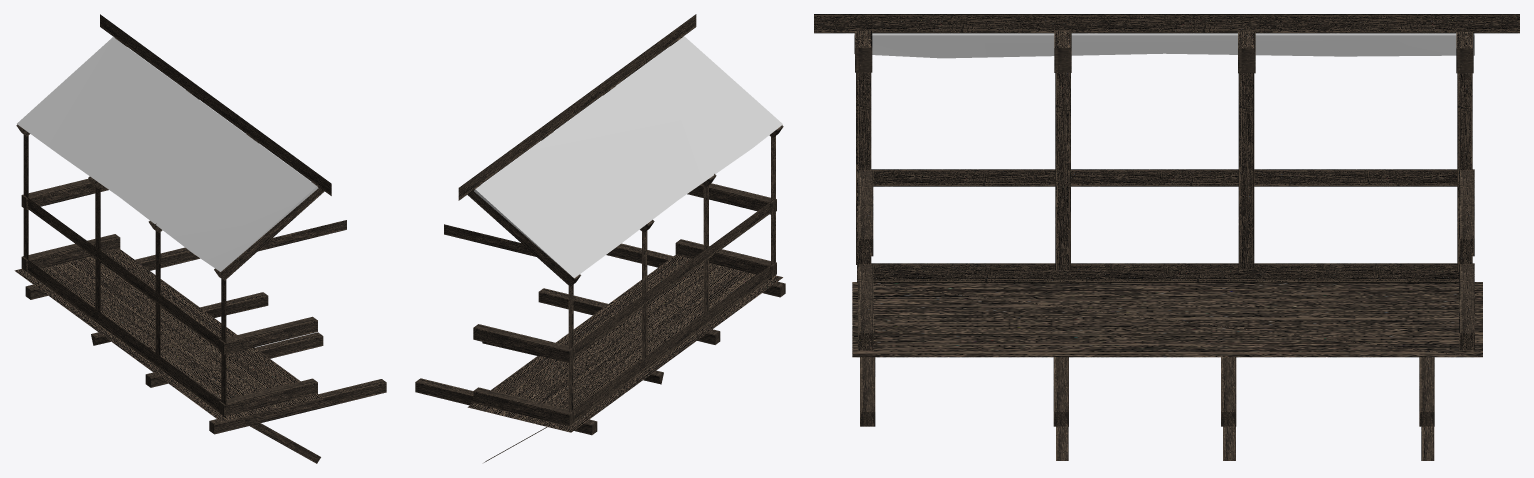
The model's file is balcony1_lod.fbx.
3 views of the same model, side by side, from view 1: azimuth 30°, elevation 25°; view 2: azimuth 150°, elevation 25°; view 3: azimuth 270°, elevation 25° (orthographic). The views are drawn at different scales.
Parts seen in each view (by area): view 1: Mesh Object; view 2: Mesh Object; view 3: Mesh Object.
Boxes of the visible parts, <box> form: Mesh Object: <box>14,14,386,463</box>; Mesh Object: <box>415,14,785,462</box>; Mesh Object: <box>814,14,1519,460</box>.
Bounding box in the file's own units: 3.33 × 5.44 × 7.77.
